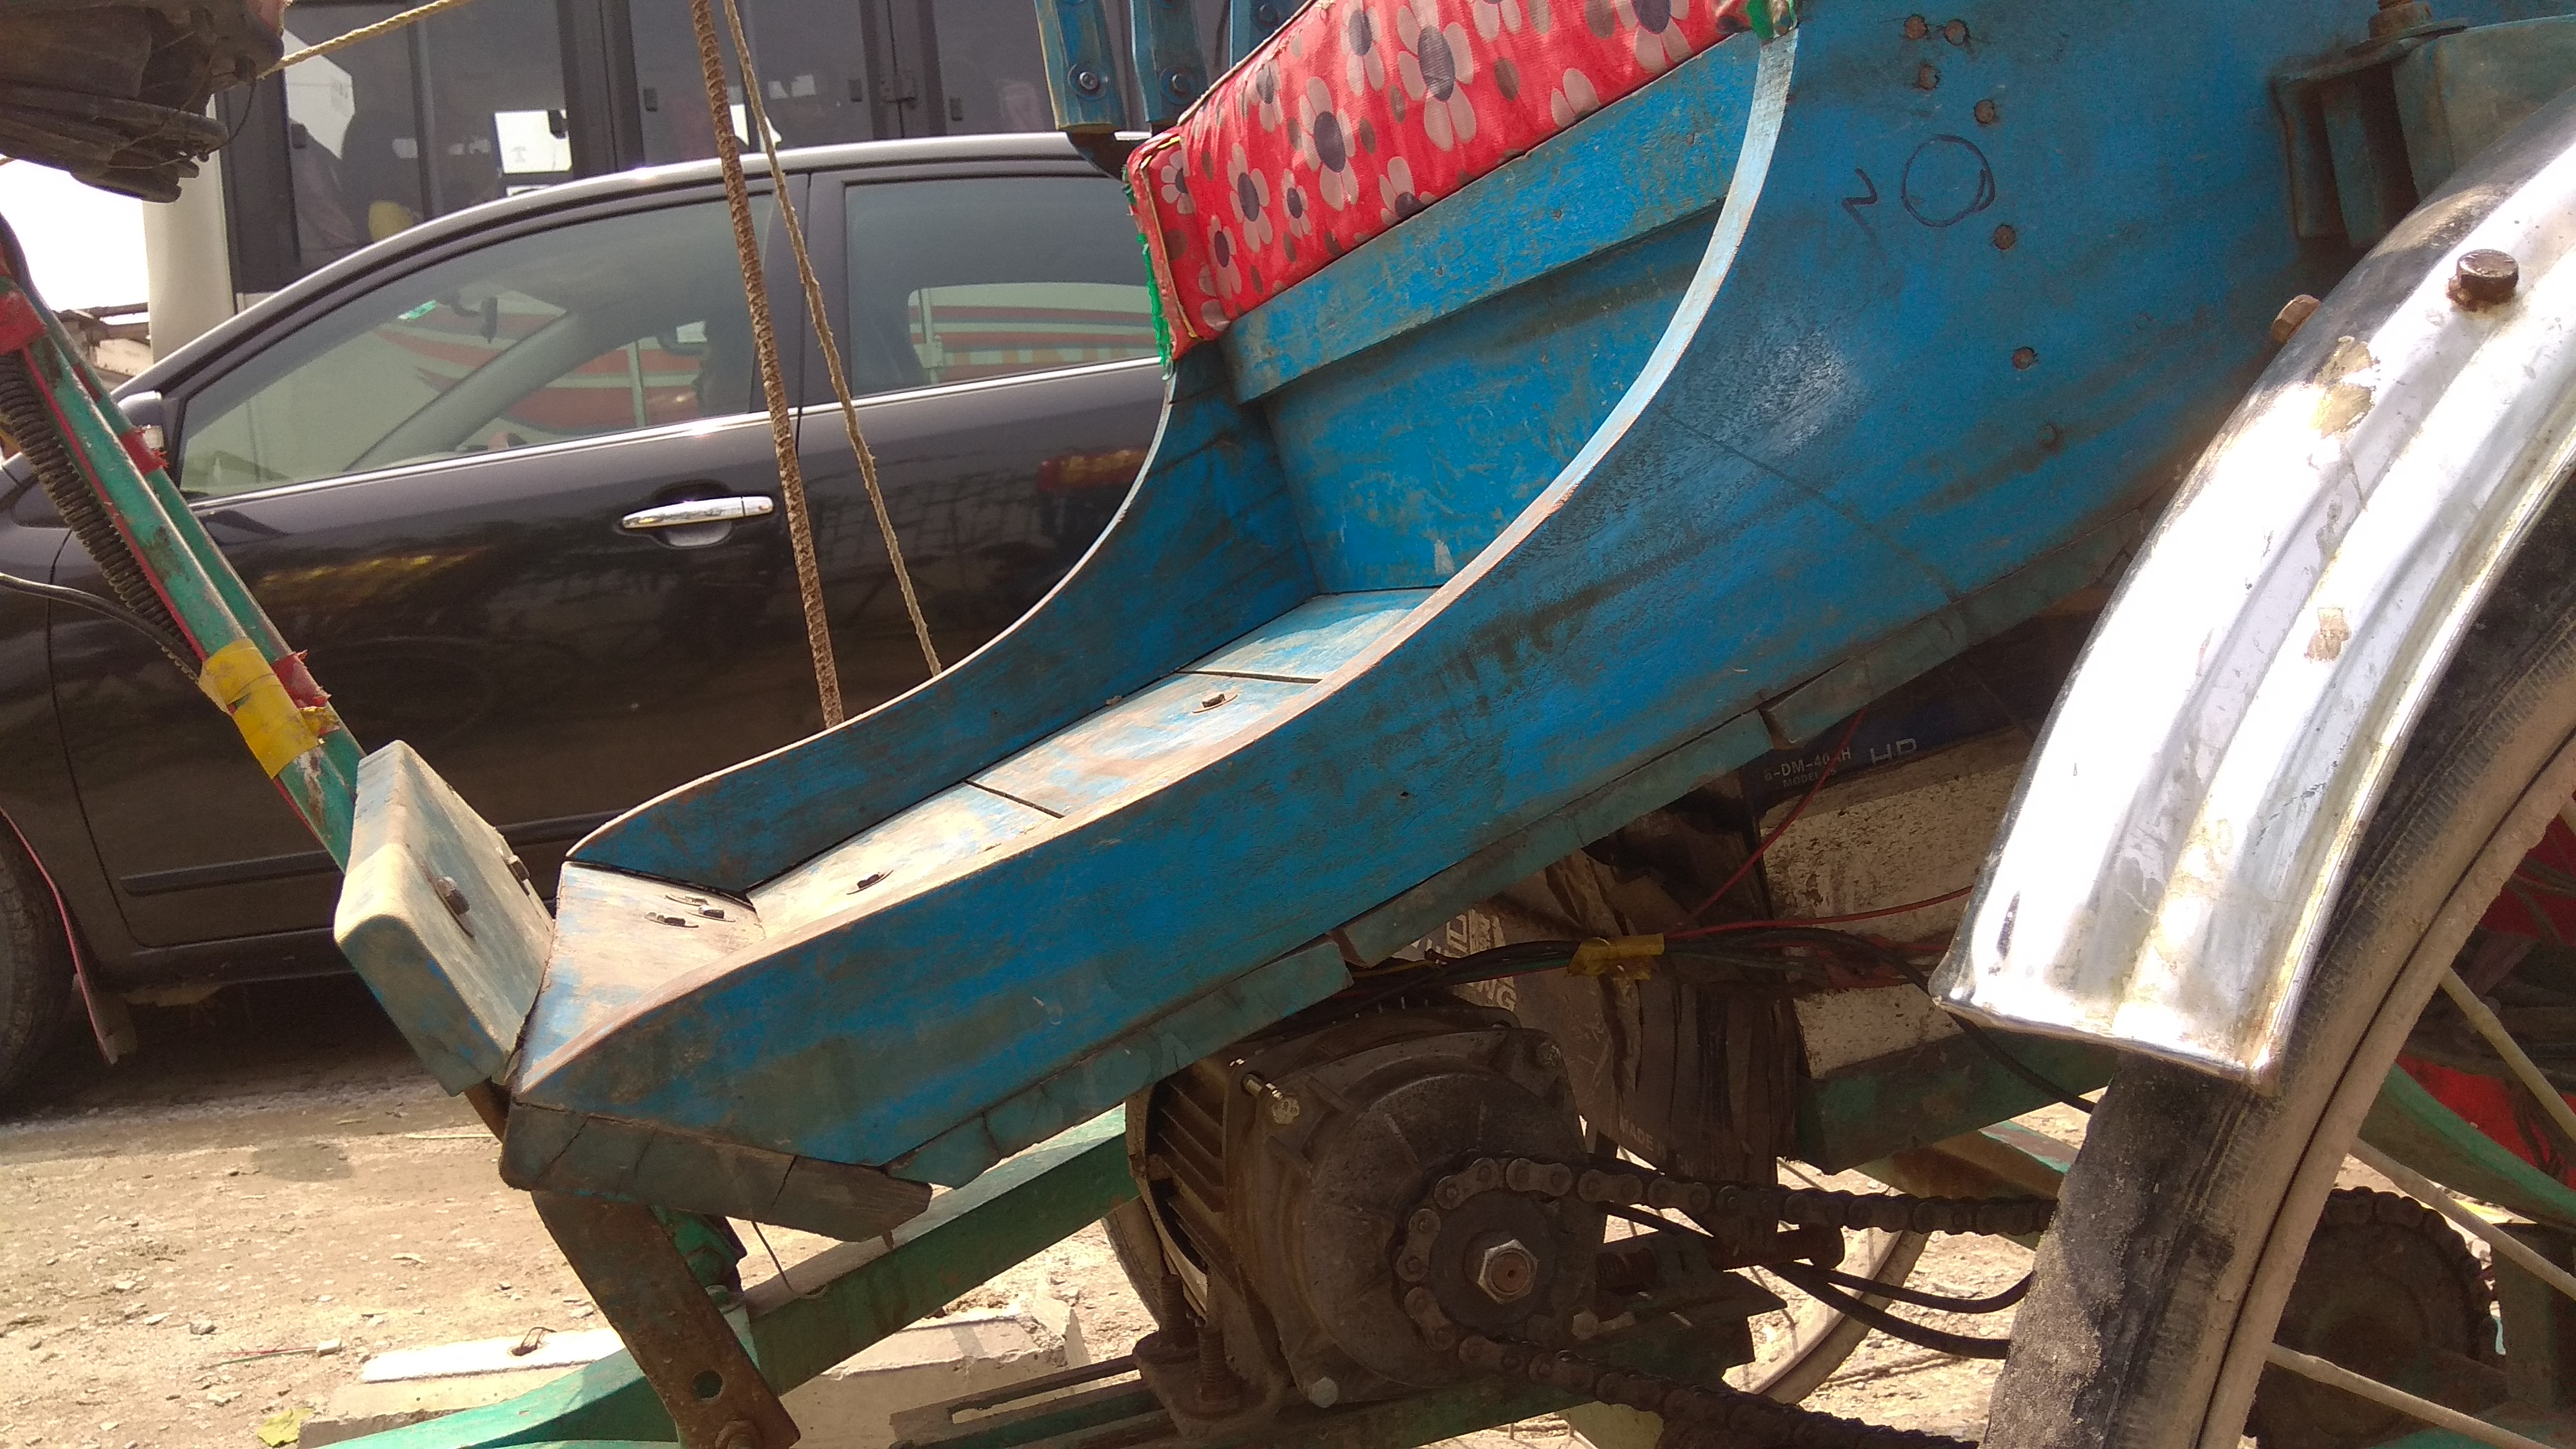Rickshaw: (402, 4, 2560, 1437)
